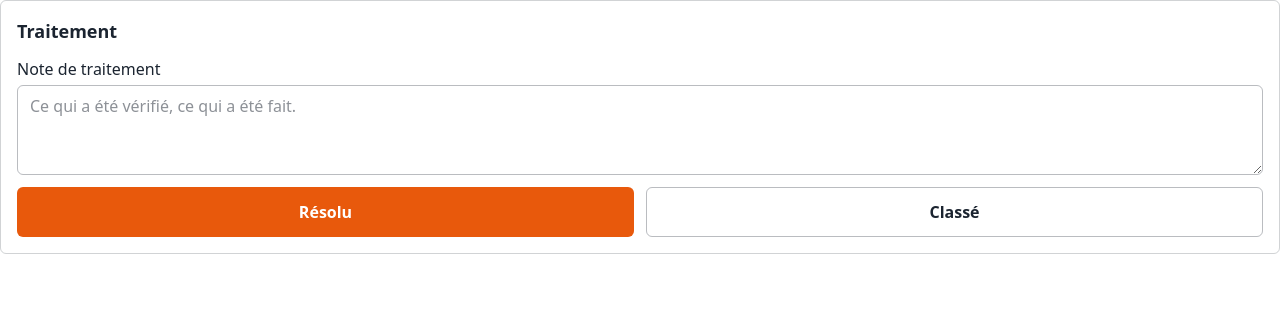
ReportActions › closes with a note, never without
The width and height of the screenshot is (1280, 323).
Later steps or results of the test are not shown.
Click the button "Classé". click: (954, 212)
box: [646,187,1263,237]
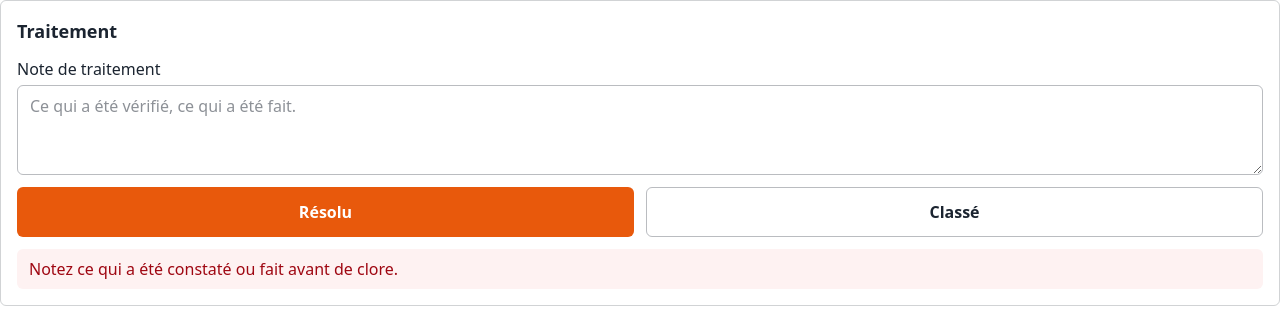
expect the message shows "Notez": met, box [29,258,398,280]
